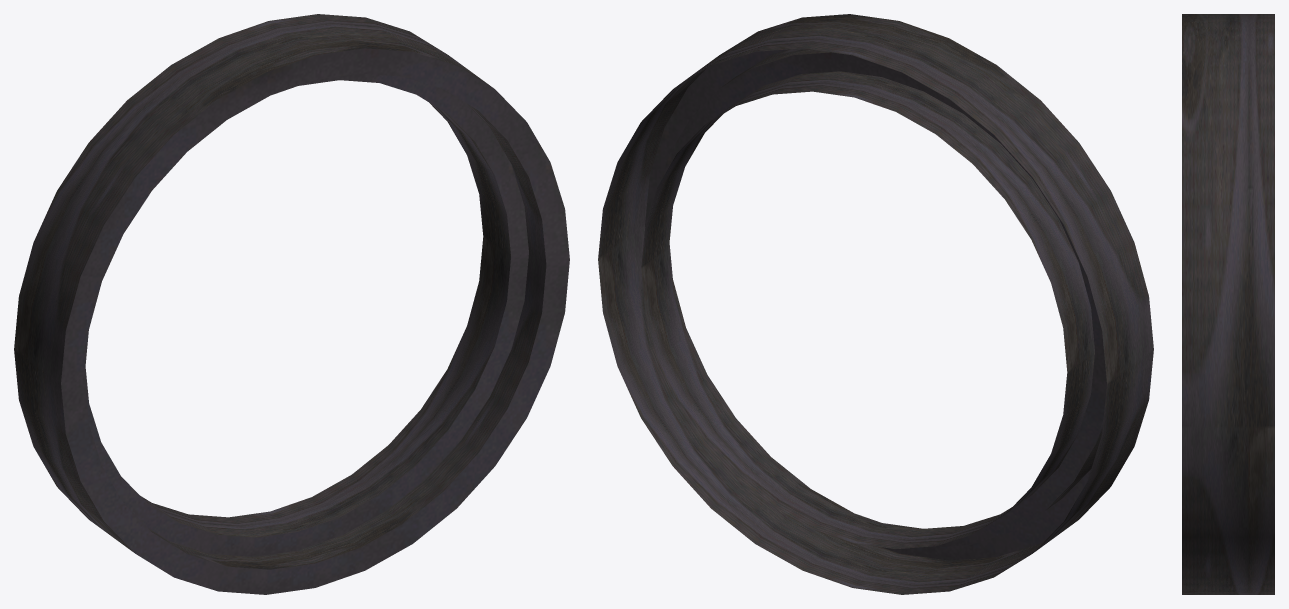
File: p_glo_manhole02_frame_LOD0.obj
The picture shows the model from 3 angles, left to right: view 1: azimuth 30°, elevation 25°; view 2: azimuth 150°, elevation 25°; view 3: azimuth 270°, elevation 25°; orthographic projection.
Parts seen in each view (by area): view 1: mtl_p_glo_manhole02; view 2: mtl_p_glo_manhole02; view 3: mtl_p_glo_manhole02.
Boxes of the visible parts, x1,y1,x2,y2 form: mtl_p_glo_manhole02: (14,14,569,594); mtl_p_glo_manhole02: (598,14,1153,594); mtl_p_glo_manhole02: (1182,14,1274,594).
Bounding box in the file's own units: 107 × 107 × 17.15.
